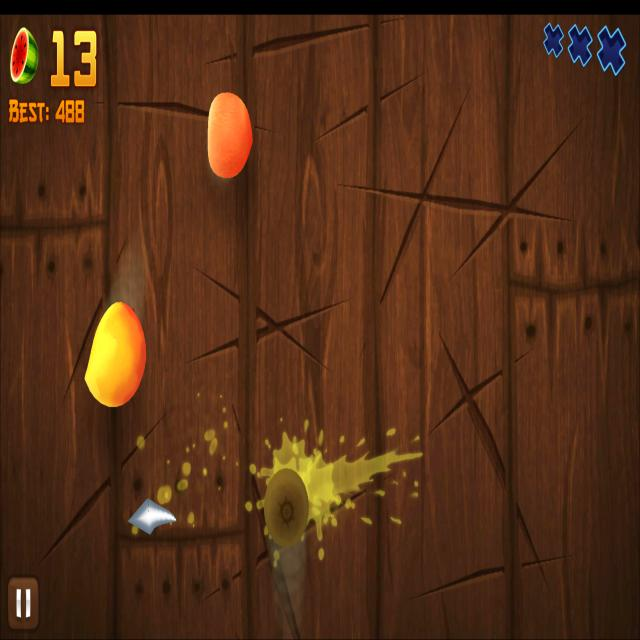fruit: (84, 300, 147, 408), (208, 91, 253, 179), (263, 467, 310, 549)
